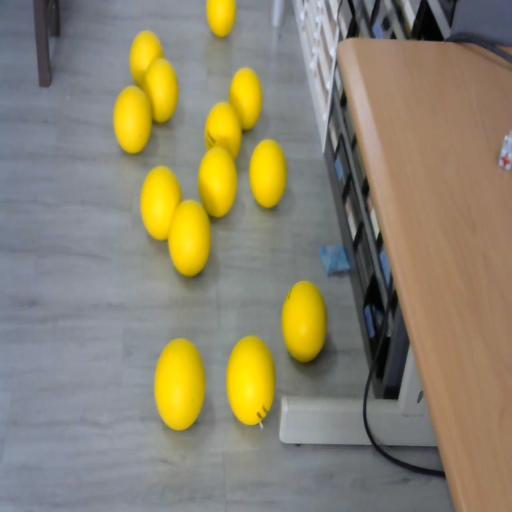FUEL: (153, 336, 205, 430), (224, 334, 276, 426), (280, 278, 328, 363), (168, 200, 212, 277), (140, 165, 181, 240), (198, 145, 238, 218), (249, 138, 287, 207), (114, 85, 152, 154), (143, 56, 179, 124), (229, 67, 263, 131), (206, 0, 236, 38)
